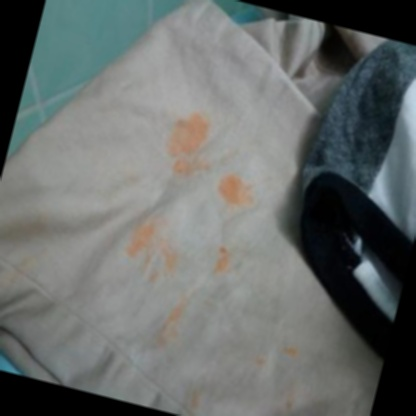kimchi: (151, 98, 224, 184), (120, 215, 187, 290), (0, 235, 56, 305), (210, 168, 266, 217), (156, 297, 190, 358), (206, 243, 234, 283), (277, 340, 305, 367), (182, 385, 205, 411), (254, 354, 270, 374), (284, 395, 300, 412)
